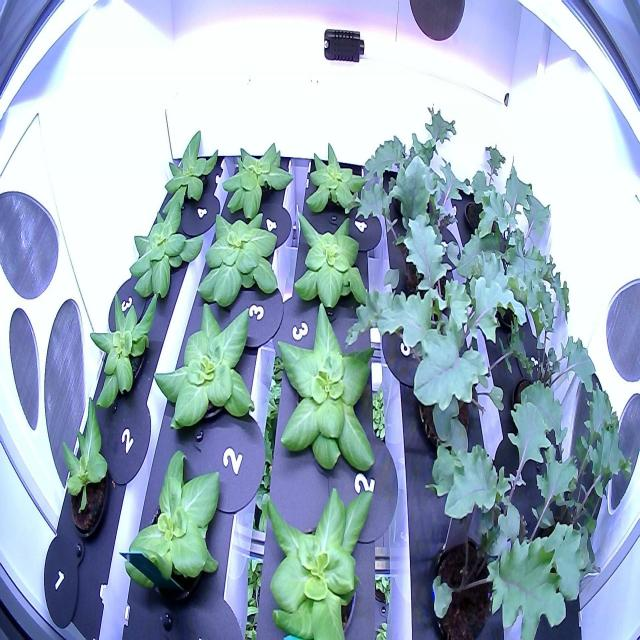young: (262, 291, 406, 492), (250, 475, 395, 639), (118, 438, 242, 616), (150, 290, 269, 443), (191, 199, 291, 325), (285, 206, 392, 316), (84, 279, 167, 418), (118, 192, 212, 304), (55, 390, 121, 547), (213, 130, 299, 228), (150, 114, 228, 218), (299, 140, 378, 220)
